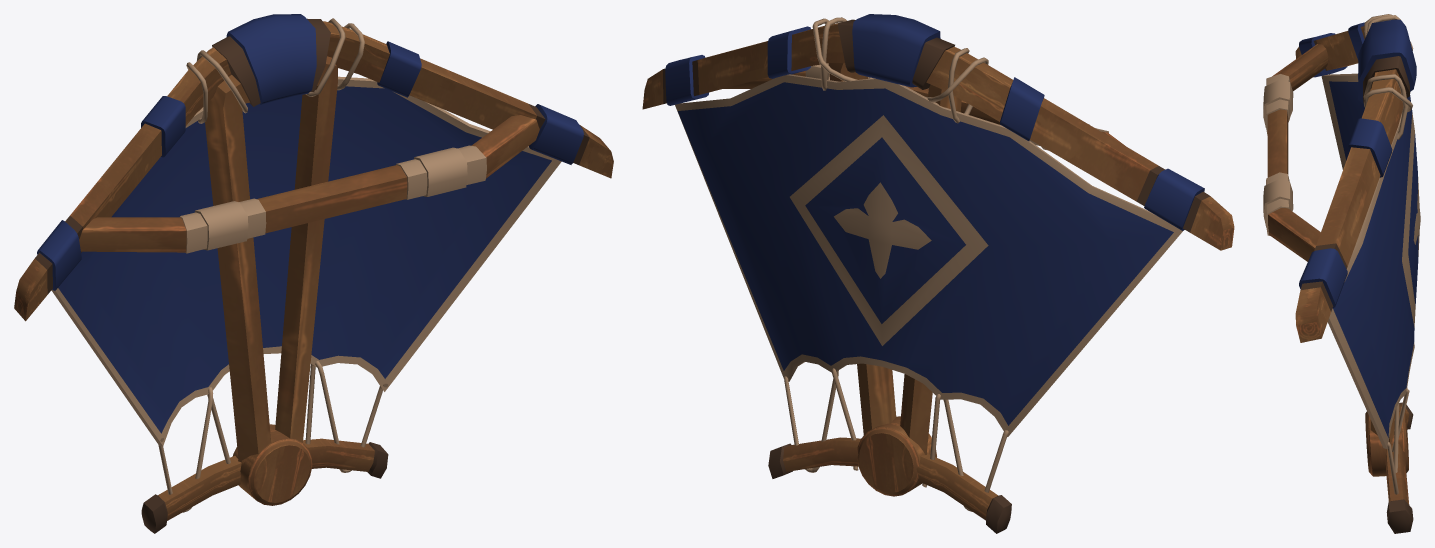
Rendered from Paraglider.glb.
The picture shows the model from 3 angles, left to right: view 1: azimuth 30°, elevation 25°; view 2: azimuth 150°, elevation 25°; view 3: azimuth 270°, elevation 25°; orthographic projection. The views are drawn at different scales.
Parts seen in each view (by area): view 1: Paraglider; view 2: Paraglider; view 3: Paraglider.
Part boxes in pixels (x1,y1,x2,y2): Paraglider: (14,14,613,533); Paraglider: (642,14,1234,533); Paraglider: (1263,14,1420,533).
Size of the model in its own units: 1.6 by 1.27 by 0.4022.
Materials: 4 (1 with a texture image).
